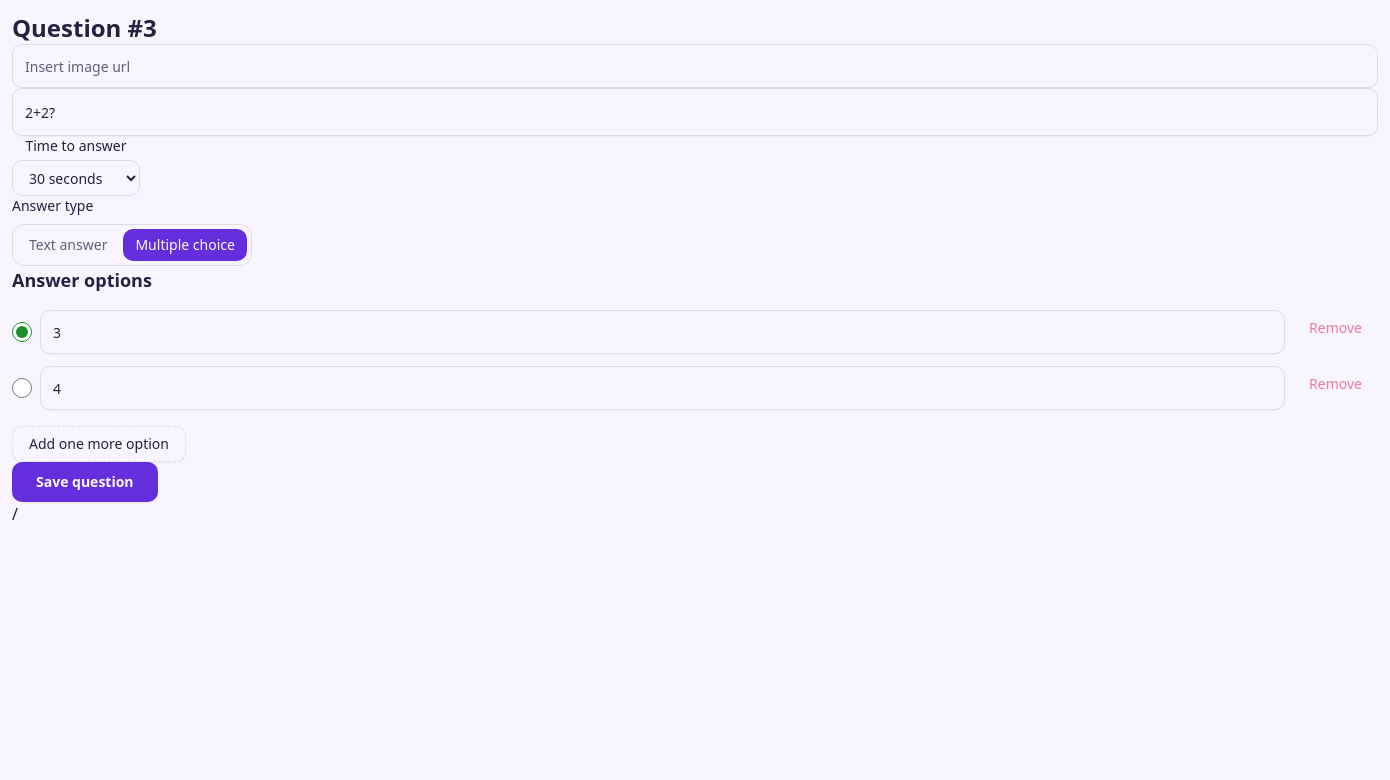
Scenario: EditQuestionForm › flags duplicated options on save (FR-100, BR-86)
Check: the field with test id "question-text-input" holds "2+2?", box [12,88,1378,136]
Replace the text in the field with test id "answer-option-input" with " 3 ": (663, 388) [40,366,1285,410]
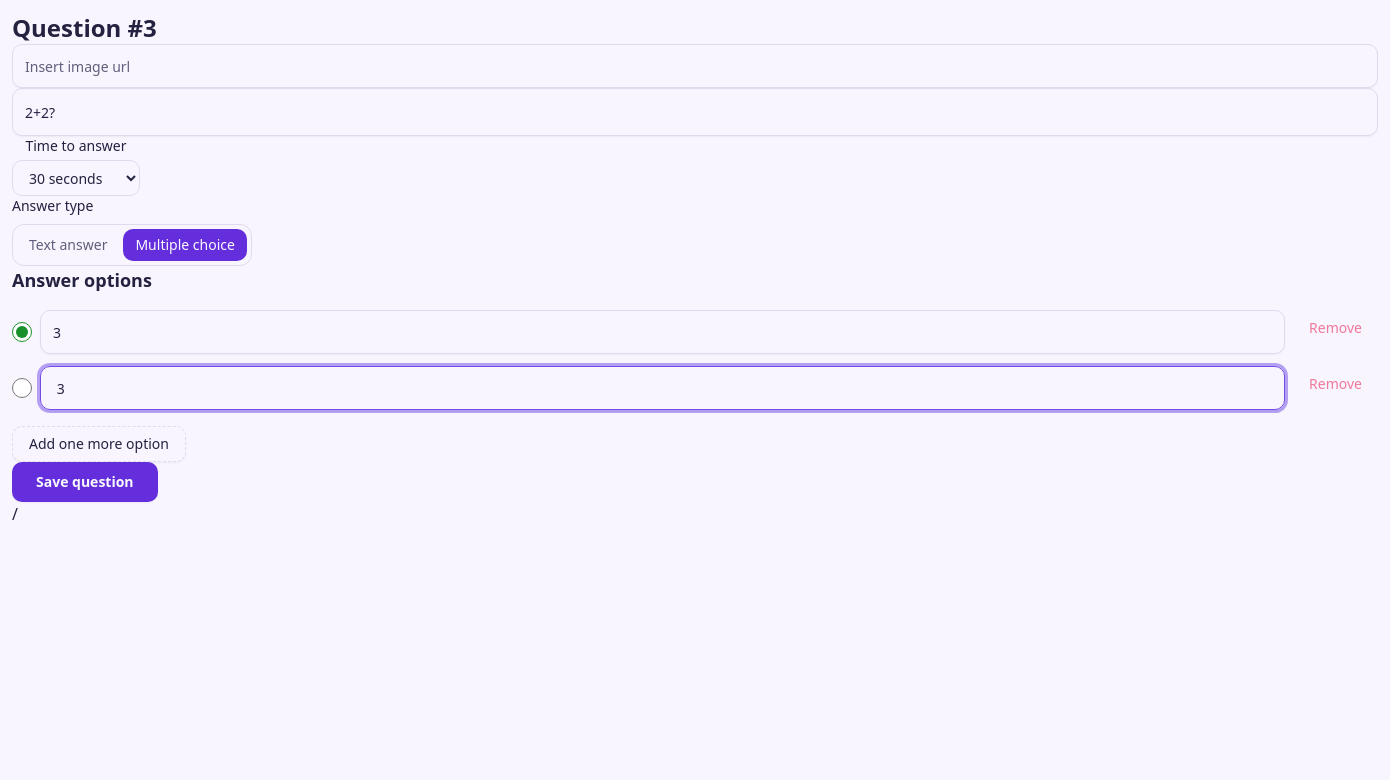
Click the button with test id "save-question-button": (85, 482) [12,462,158,502]
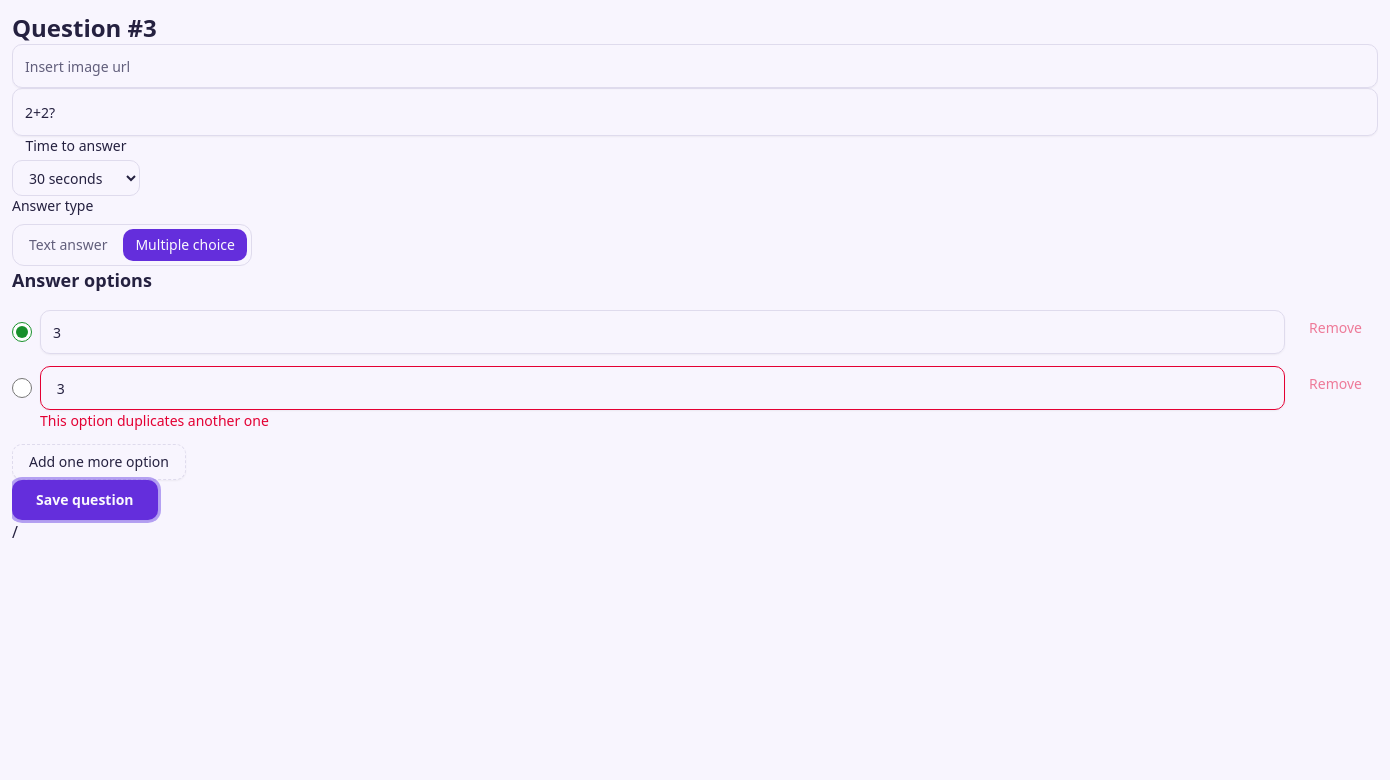
Check: the text "This option duplicates another one" is shown, box [40,414,269,428]
